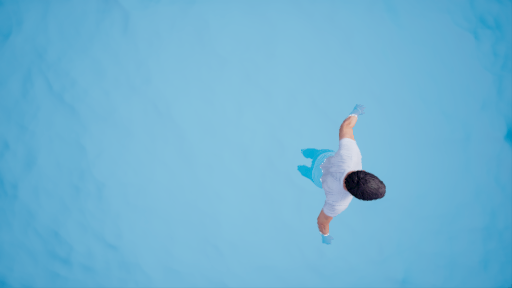person: (299, 103, 392, 224)
